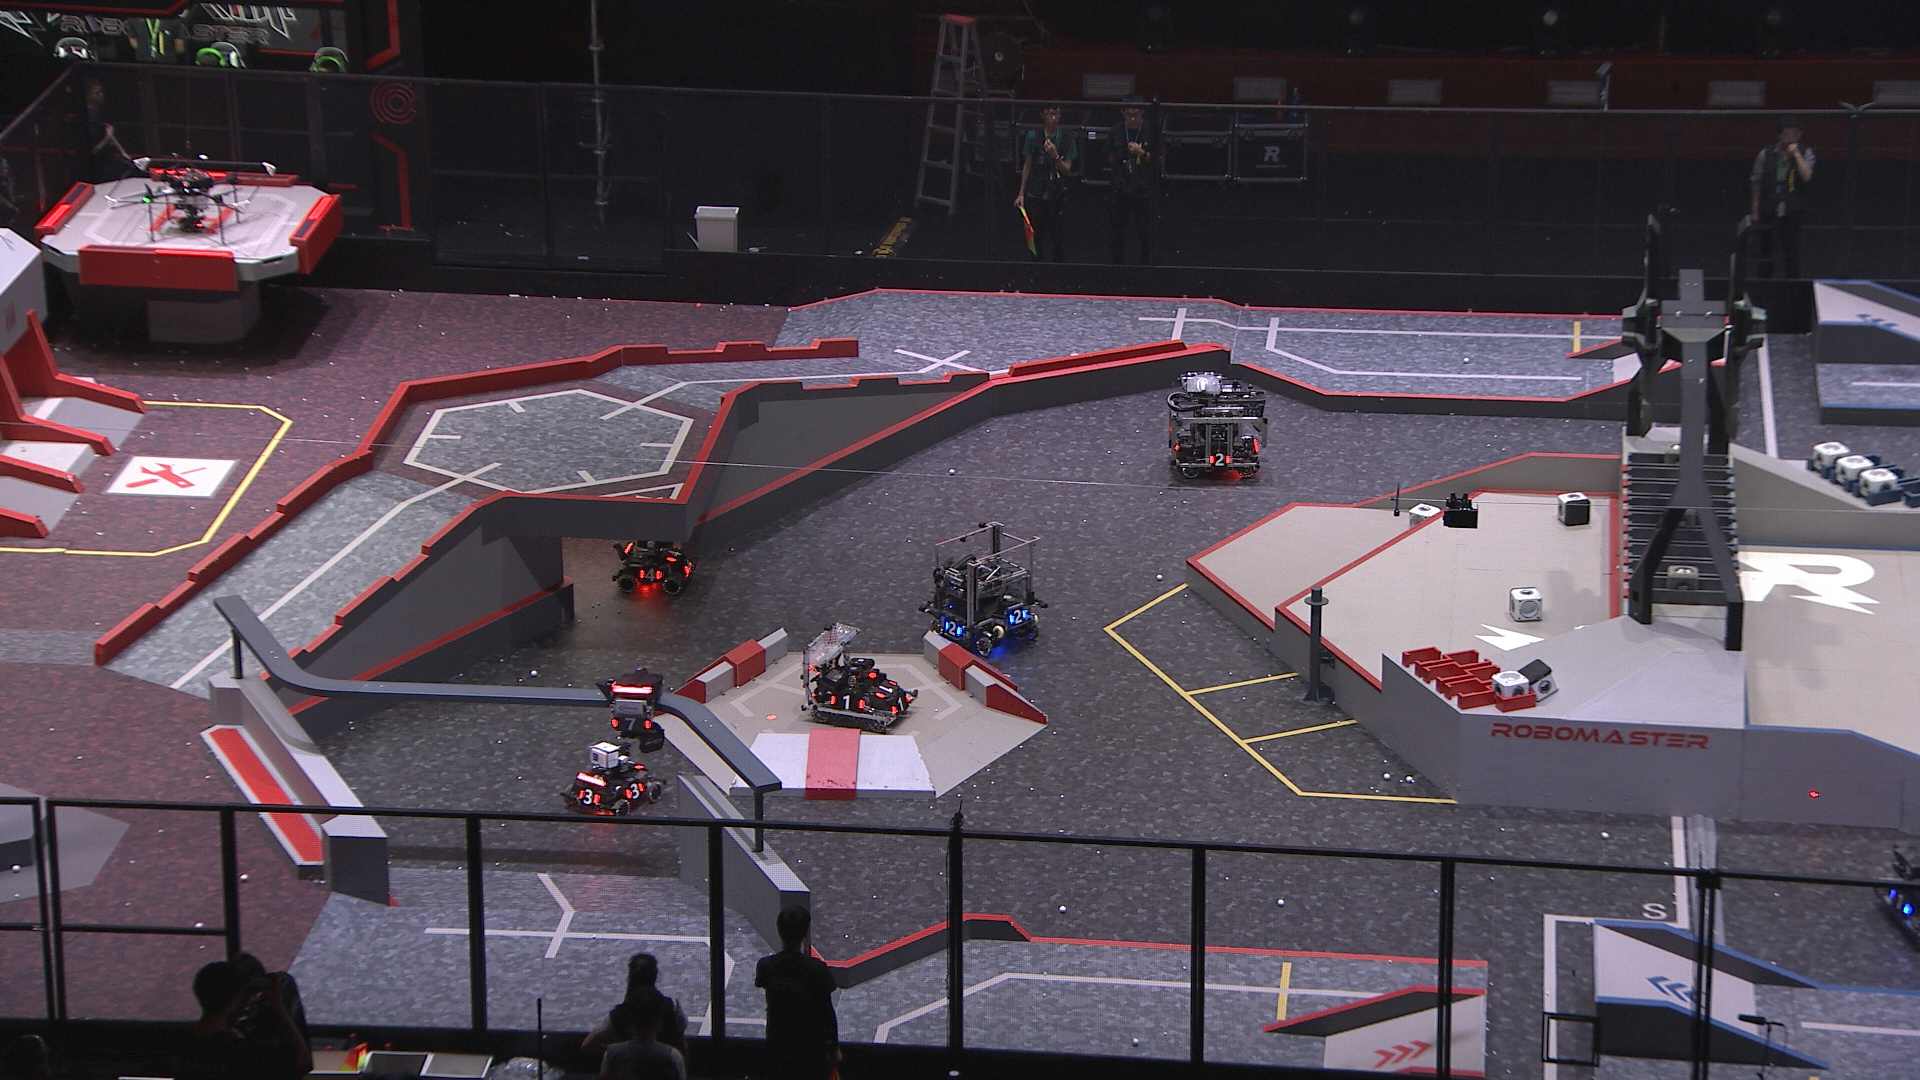armor: (828, 694, 868, 713), (609, 716, 651, 735), (1884, 887, 1912, 915), (622, 779, 646, 802), (576, 787, 603, 807), (1007, 605, 1030, 626), (637, 566, 662, 584), (891, 695, 911, 716), (679, 556, 698, 578), (942, 618, 963, 637), (1209, 452, 1232, 469), (876, 679, 895, 698), (665, 547, 680, 562)
car: (916, 522, 1044, 655), (798, 622, 920, 732), (1167, 373, 1269, 483), (556, 740, 669, 820), (611, 533, 699, 597), (1873, 847, 1920, 949)
watcher: (597, 666, 667, 754)
